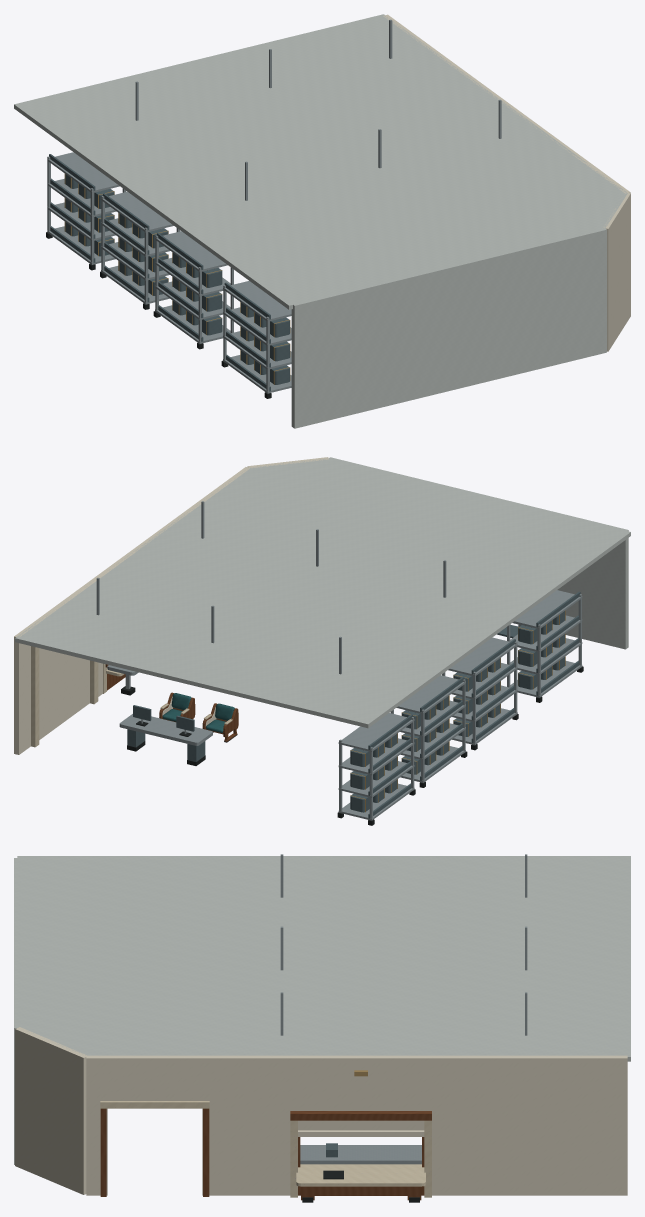
Rendered from G8_ARRIVALS_SERVICE_r002.glb.
3 renders of one model, top to bottom at view 1: azimuth 30°, elevation 25°; view 2: azimuth 150°, elevation 25°; view 3: azimuth 270°, elevation 25°, orthographic. The views are drawn at different scales.
Parts seen in each view (by area): view 1: G8A_BATCH_0058_D01_directory_01, G8A_BATCH_0059_D01_directory_01, G8A_BATCH_0065_D01_directory_01, G8A_BATCH_0068_D01_directory_01, G8A_BATCH_0030_D01_directory_01, G8A_BATCH_0064_D01_directory_01, G8A_BATCH_0062_D01_directory_01, G8A_BATCH_0046_D01_directory_01, G8A_BATCH_0040_D01_directory_01, G8A_BATCH_0042_D01_directory_01, G8A_BATCH_0043_D01_directory_01, G8A_BATCH_0044_D01_directory_01 (+1 smaller); view 2: G8A_BATCH_0058_D01_directory_01, G8A_BATCH_0031_D01_directory_01, G8A_BATCH_0059_D01_directory_01, G8A_BATCH_0062_D01_directory_01, G8A_BATCH_0068_D01_directory_01, G8A_BATCH_0065_D01_directory_01, G8A_BATCH_0064_D01_directory_01, G8A_BATCH_0043_D01_directory_01, G8A_BATCH_0040_D01_directory_01, G8A_BATCH_0042_D01_directory_01, G8A_BATCH_0046_D01_directory_01, G8A_BATCH_0077_D01_directory_01 (+8 smaller); view 3: G8A_BATCH_0058_D01_directory_01, G8A_BATCH_0031_D01_directory_01, G8A_BATCH_0033_D01_directory_01, G8A_BATCH_0030_D01_directory_01, G8A_BATCH_0032_D01_directory_01, G8A_BATCH_0034_D01_directory_01, G8A_BATCH_0093_D01_directory_01, G8A_BATCH_0096_D01_directory_01, G8A_BATCH_0082_D01_directory_01, G8A_BATCH_0059_D01_directory_01, G8A_BATCH_0094_D01_directory_01, G8A_BATCH_0097_D01_directory_01 (+2 smaller).
Part boxes in pixels (x1=…): G8A_BATCH_0058_D01_directory_01: x1=14, y1=14, x2=627, y2=309; G8A_BATCH_0059_D01_directory_01: x1=291, y1=228, x2=606, y2=428; G8A_BATCH_0065_D01_directory_01: x1=155, y1=231, x2=230, y2=343; G8A_BATCH_0068_D01_directory_01: x1=223, y1=281, x2=291, y2=393; G8A_BATCH_0030_D01_directory_01: x1=603, y1=193, x2=630, y2=351; G8A_BATCH_0064_D01_directory_01: x1=101, y1=191, x2=180, y2=304; G8A_BATCH_0062_D01_directory_01: x1=47, y1=152, x2=119, y2=264; G8A_BATCH_0046_D01_directory_01: x1=224, y1=282, x2=289, y2=391; G8A_BATCH_0040_D01_directory_01: x1=49, y1=154, x2=114, y2=262; G8A_BATCH_0042_D01_directory_01: x1=103, y1=193, x2=168, y2=302; G8A_BATCH_0043_D01_directory_01: x1=157, y1=233, x2=203, y2=341; G8A_BATCH_0044_D01_directory_01: x1=202, y1=267, x2=222, y2=335; G8A_BATCH_0058_D01_directory_01: x1=15, y1=458, x2=630, y2=728; G8A_BATCH_0031_D01_directory_01: x1=14, y1=573, x2=105, y2=754; G8A_BATCH_0059_D01_directory_01: x1=329, y1=457, x2=628, y2=649; G8A_BATCH_0062_D01_directory_01: x1=338, y1=713, x2=414, y2=820; G8A_BATCH_0068_D01_directory_01: x1=510, y1=590, x2=582, y2=697; G8A_BATCH_0065_D01_directory_01: x1=442, y1=637, x2=517, y2=745; G8A_BATCH_0064_D01_directory_01: x1=396, y1=675, x2=465, y2=782; G8A_BATCH_0043_D01_directory_01: x1=453, y1=639, x2=515, y2=742; G8A_BATCH_0040_D01_directory_01: x1=368, y1=714, x2=412, y2=818; G8A_BATCH_0042_D01_directory_01: x1=420, y1=677, x2=464, y2=780; G8A_BATCH_0046_D01_directory_01: x1=536, y1=591, x2=580, y2=695; G8A_BATCH_0077_D01_directory_01: x1=119, y1=605, x2=214, y2=745; G8A_BATCH_0058_D01_directory_01: x1=17, y1=856, x2=630, y2=1061; G8A_BATCH_0031_D01_directory_01: x1=424, y1=1055, x2=627, y2=1195; G8A_BATCH_0033_D01_directory_01: x1=202, y1=1055, x2=297, y2=1195; G8A_BATCH_0030_D01_directory_01: x1=15, y1=1027, x2=86, y2=1194; G8A_BATCH_0032_D01_directory_01: x1=297, y1=1055, x2=424, y2=1136; G8A_BATCH_0034_D01_directory_01: x1=86, y1=1055, x2=202, y2=1195; G8A_BATCH_0093_D01_directory_01: x1=290, y1=1120, x2=425, y2=1197; G8A_BATCH_0096_D01_directory_01: x1=290, y1=1111, x2=431, y2=1200; G8A_BATCH_0082_D01_directory_01: x1=300, y1=1145, x2=421, y2=1164; G8A_BATCH_0059_D01_directory_01: x1=14, y1=858, x2=20, y2=1164; G8A_BATCH_0094_D01_directory_01: x1=100, y1=1101, x2=209, y2=1108; G8A_BATCH_0097_D01_directory_01: x1=203, y1=1108, x2=209, y2=1196.
Bounding box in the file's own units: 14.83 × 5.76 × 17.95.
17 materials, 16 textured.
